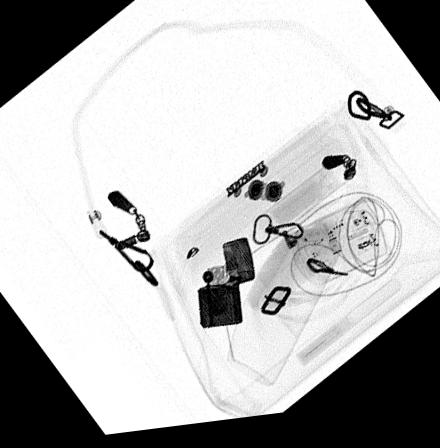Lighter: (197, 243, 255, 334)
